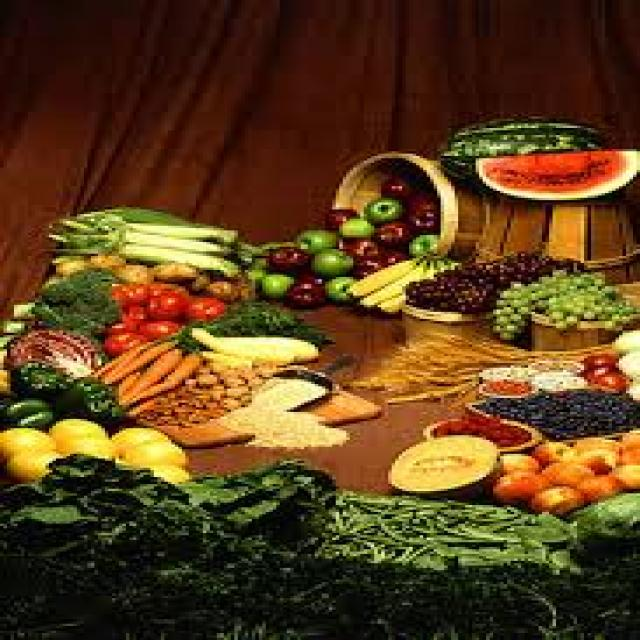organic waste: (0, 547, 301, 638), (311, 491, 563, 566), (0, 454, 182, 556), (175, 461, 332, 549), (297, 547, 444, 638), (433, 114, 594, 189), (339, 326, 500, 398), (434, 556, 574, 638), (402, 247, 581, 307), (468, 147, 636, 200), (384, 433, 504, 496), (168, 298, 322, 347), (147, 358, 252, 428), (45, 238, 242, 272), (10, 272, 119, 328), (524, 263, 630, 319), (42, 223, 231, 254), (3, 322, 105, 379), (577, 554, 637, 638), (49, 217, 234, 244), (122, 352, 203, 409), (570, 489, 637, 542), (556, 386, 637, 428), (189, 328, 290, 361), (52, 377, 122, 424), (213, 403, 315, 435), (217, 331, 315, 363), (45, 200, 189, 221), (115, 349, 178, 396), (490, 398, 570, 435), (94, 335, 182, 368), (343, 253, 409, 296), (378, 258, 430, 310), (356, 263, 419, 305), (105, 338, 168, 380), (245, 375, 322, 407), (486, 280, 528, 338), (434, 414, 521, 442), (490, 342, 605, 363), (245, 424, 343, 444), (0, 396, 52, 433), (10, 360, 63, 396), (486, 468, 549, 498), (112, 438, 185, 463), (133, 456, 196, 484), (45, 414, 105, 442), (524, 484, 580, 512), (4, 444, 46, 480), (56, 433, 108, 461), (280, 270, 318, 307), (137, 284, 186, 312), (109, 423, 164, 447), (108, 302, 147, 333), (577, 447, 619, 475), (140, 316, 189, 340), (182, 293, 224, 321), (266, 242, 311, 268), (308, 245, 350, 272), (332, 216, 378, 240), (570, 474, 619, 496), (539, 461, 598, 479), (528, 440, 574, 463), (0, 426, 42, 451), (364, 191, 398, 221), (150, 258, 196, 280), (108, 274, 144, 302), (256, 266, 290, 294), (374, 244, 416, 266), (374, 219, 413, 242), (318, 272, 350, 300), (608, 459, 636, 491), (497, 447, 535, 470), (532, 368, 584, 384), (45, 254, 91, 272), (574, 433, 619, 451), (294, 226, 332, 247), (612, 344, 637, 375), (350, 251, 381, 275), (619, 428, 637, 468), (608, 326, 636, 351), (203, 274, 234, 296), (591, 370, 633, 386), (398, 191, 434, 209), (406, 205, 434, 228), (325, 205, 360, 223), (483, 377, 521, 393), (409, 230, 434, 254), (381, 172, 409, 193), (84, 254, 126, 268), (542, 312, 577, 328), (224, 240, 266, 253), (346, 237, 378, 254), (479, 363, 521, 375), (115, 263, 144, 279), (577, 363, 612, 375), (577, 351, 609, 361), (622, 377, 636, 393)
